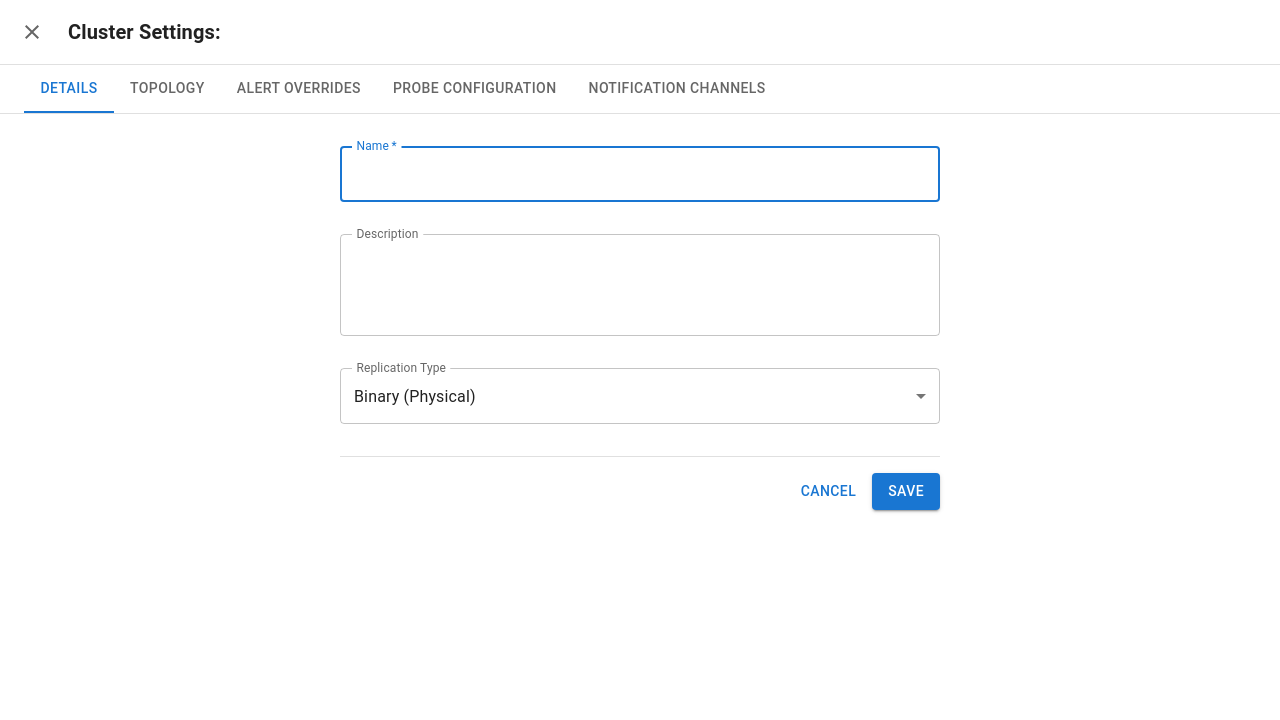
Test: ClusterConfigDialog › save flow › requires a name before saving
Click the button "Save" at (906, 491), box x1=872 y1=473 x2=940 y2=510
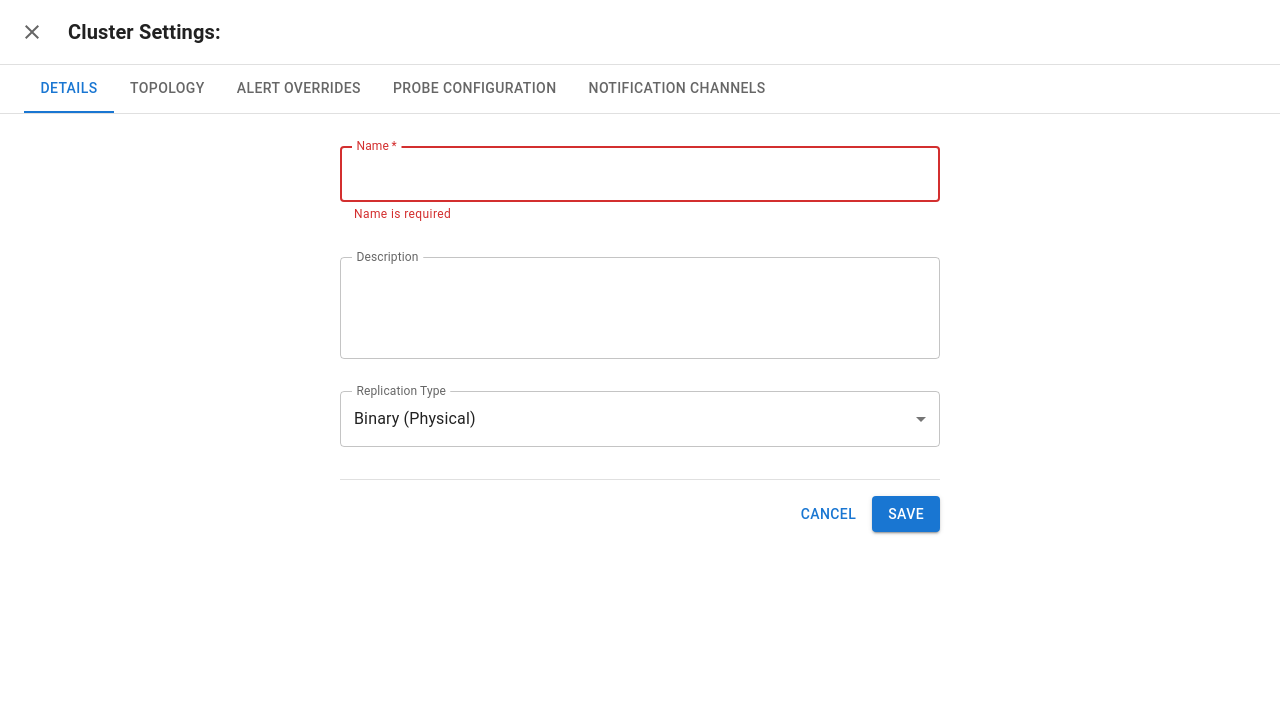
Expected: the text "Name is required" is shown, x1=354 y1=207 x2=451 y2=221
